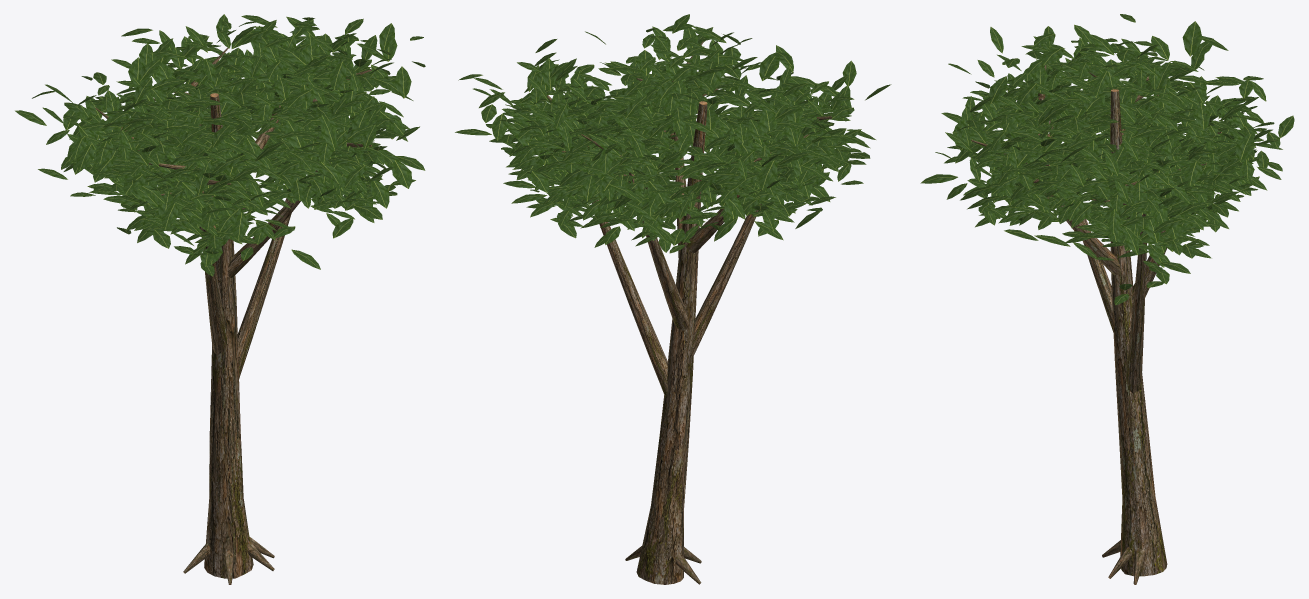
The model's file is leaning-2.obj.
The picture shows the model from 3 angles, left to right: view 1: azimuth 30°, elevation 25°; view 2: azimuth 150°, elevation 25°; view 3: azimuth 270°, elevation 25°; orthographic projection. The views are drawn at different scales.
Size of the model in its own units: 7.43 by 9.57 by 6.53.
1 material, 1 textured.
